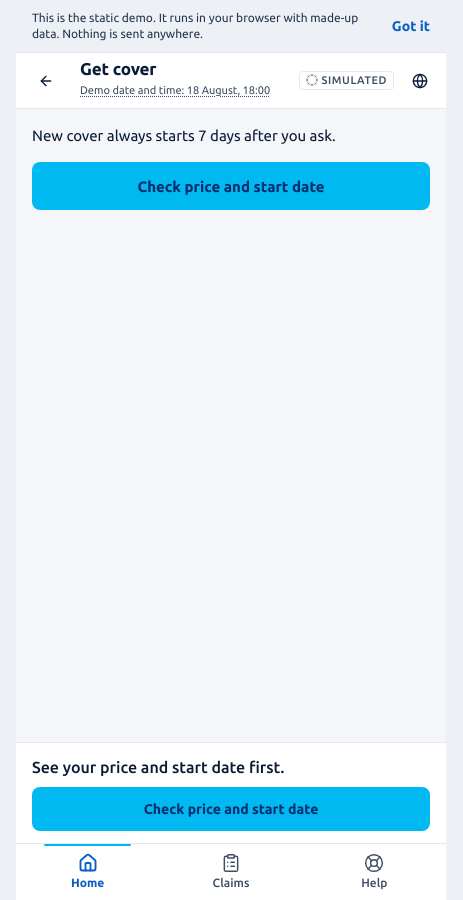
Test: errors and states › says the demo needs the presenter when the session is refused
Click the button with test id "buy-check" at (231, 186), box [32,162,430,210]
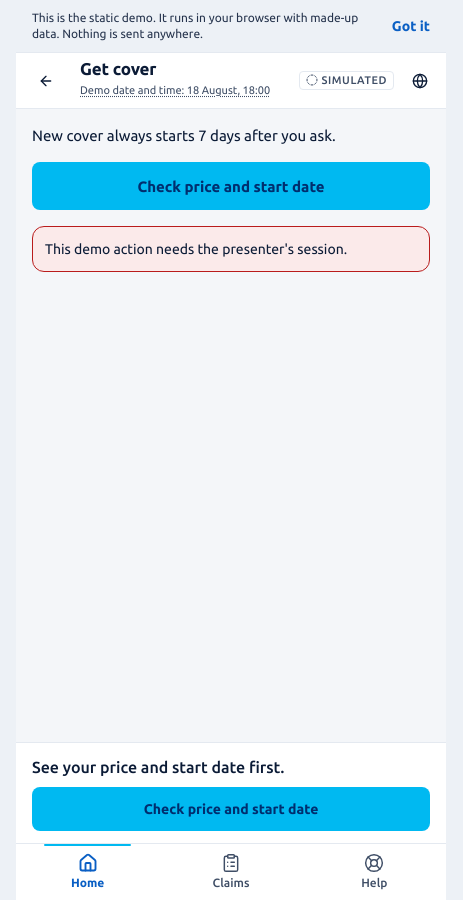
Now the message with test id "buy-error" shows "presenter's session", box [45,241,347,257]
